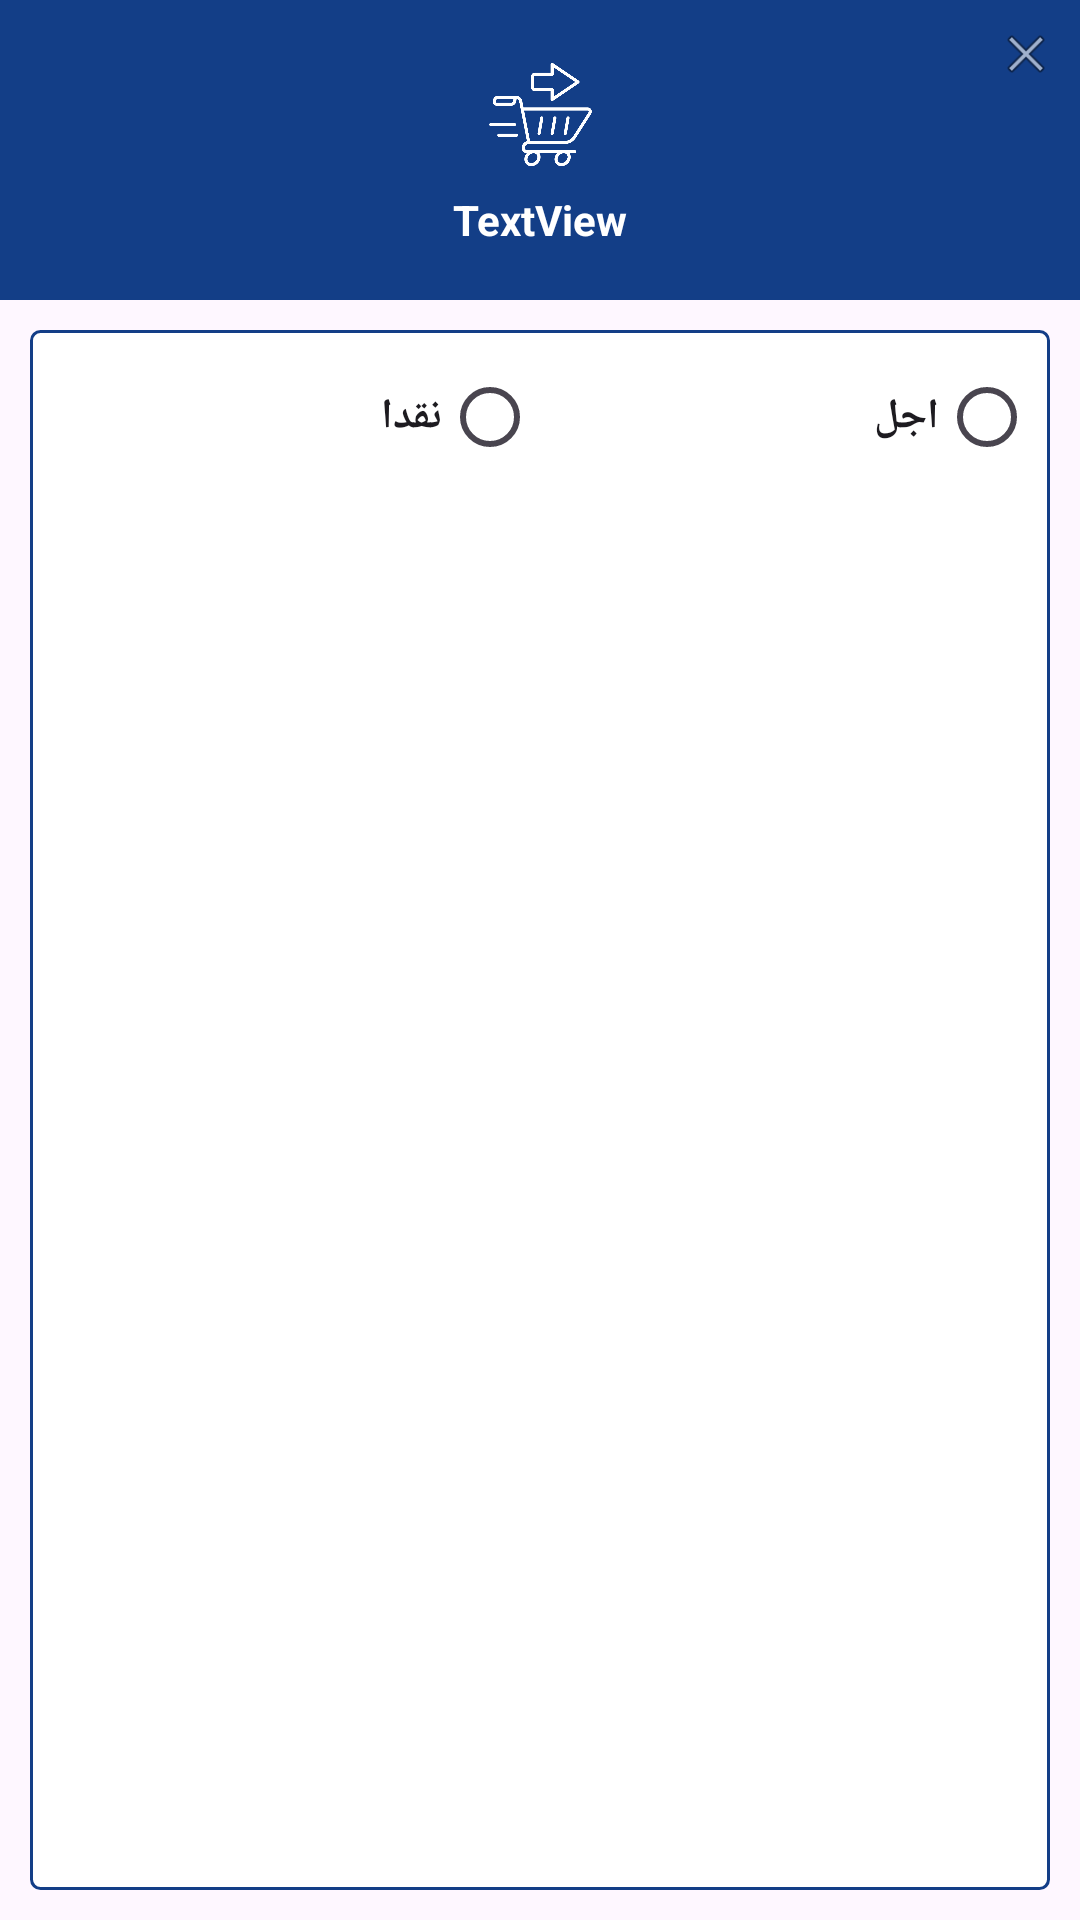

Named icons in this screenshot (1080px×1920px) and their centers, (x,y):
checkout: (540,114)
close clear cancel: (1026,54)
